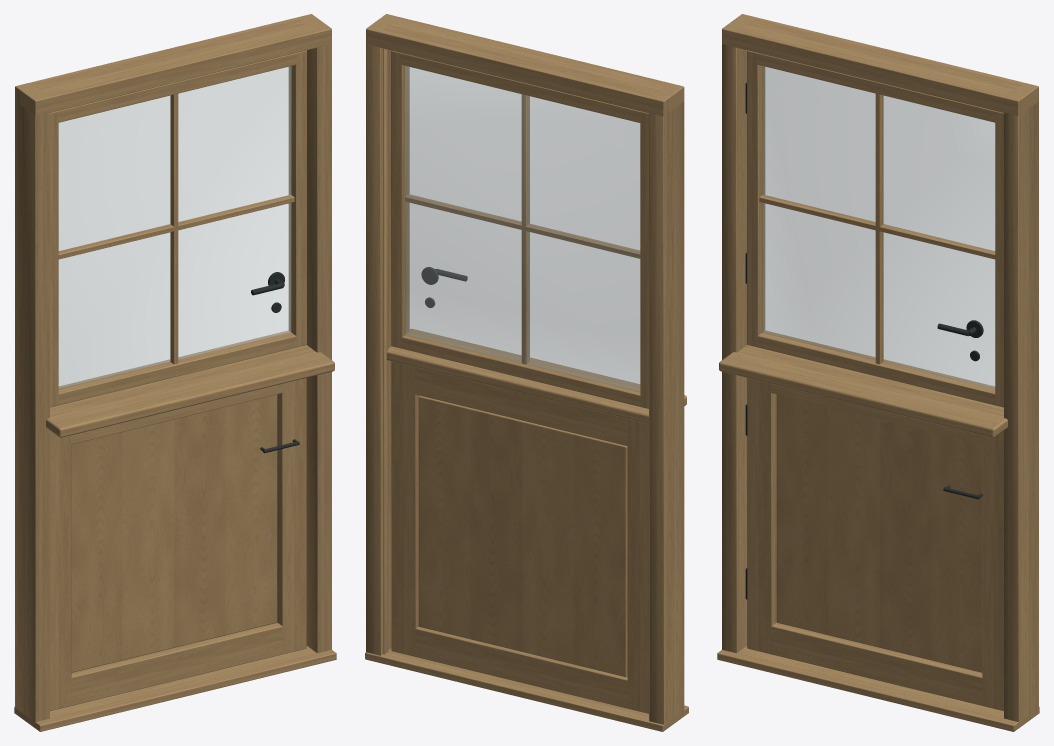
Rendered from dutch-dutch-split-door.glb.
3 renders of one model, left to right at view 1: azimuth 30°, elevation 25°; view 2: azimuth 150°, elevation 25°; view 3: azimuth 330°, elevation 25°, orthographic.
Visible parts, largest first — view 1: Sash | glass pane, Door | recessed field, Frame | jamb, Frame | jamb.001, Frame | header, Dutch | shelf over split, Door | solid stile.001, Door | cross rail, Door | solid stile, Frame | sill, Sash | stile.001, Sash | crossrail (+5 smaller); view 2: Sash | glass pane, Door | recessed field, Frame | jamb, Frame | jamb.001, Frame | header, Door | solid stile.001, Door | cross rail, Door | solid stile, Door | cross rail.001, Sash | stile.001, Dutch | shelf over split, Sash | crossrail (+6 smaller); view 3: Sash | glass pane, Door | recessed field, Frame | jamb.001, Frame | jamb, Frame | header, Dutch | shelf over split, Door | solid stile, Door | cross rail, Door | solid stile.001, Frame | sill, Sash | stile, Sash | crossrail (+5 smaller).
Part boxes in pixels (<box>): Sash | glass pane: <box>58,66,291,388</box>; Door | recessed field: <box>71,394,277,672</box>; Frame | jamb: <box>15,83,49,727</box>; Frame | jamb.001: <box>298,14,331,652</box>; Frame | header: <box>15,14,331,115</box>; Dutch | shelf over split: <box>46,345,334,437</box>; Door | solid stile.001: <box>277,378,306,653</box>; Door | cross rail: <box>69,622,286,706</box>; Door | solid stile: <box>50,431,71,710</box>; Frame | sill: <box>14,646,336,731</box>; Sash | stile.001: <box>288,50,306,347</box>; Sash | crossrail: <box>57,330,296,405</box>; Sash | glass pane: <box>405,66,640,391</box>; Door | recessed field: <box>418,395,627,677</box>; Frame | jamb: <box>649,83,684,724</box>; Frame | jamb.001: <box>366,14,399,655</box>; Frame | header: <box>366,14,684,116</box>; Door | solid stile.001: <box>391,361,419,656</box>; Door | cross rail: <box>415,626,629,709</box>; Door | solid stile: <box>627,419,648,713</box>; Door | cross rail.001: <box>415,367,627,446</box>; Sash | stile.001: <box>391,50,409,348</box>; Dutch | shelf over split: <box>386,329,686,423</box>; Sash | crossrail: <box>400,332,640,406</box>; Sash | glass pane: <box>762,66,995,388</box>; Door | recessed field: <box>776,394,982,672</box>; Frame | jamb.001: <box>1004,83,1038,727</box>; Frame | jamb: <box>722,14,755,652</box>; Frame | header: <box>722,14,1038,115</box>; Dutch | shelf over split: <box>719,345,1007,437</box>; Door | solid stile: <box>747,378,776,653</box>; Door | cross rail: <box>767,622,984,706</box>; Door | solid stile.001: <box>982,431,1003,710</box>; Frame | sill: <box>717,646,1039,731</box>; Sash | stile: <box>747,50,765,347</box>; Sash | crossrail: <box>757,330,996,405</box>.
Bounding box in the file's own units: 1.08 × 2.18 × 0.2235.
4 materials, 4 textured.
